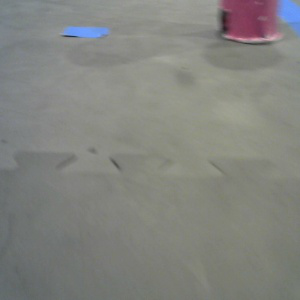right: (219, 1, 283, 45)
